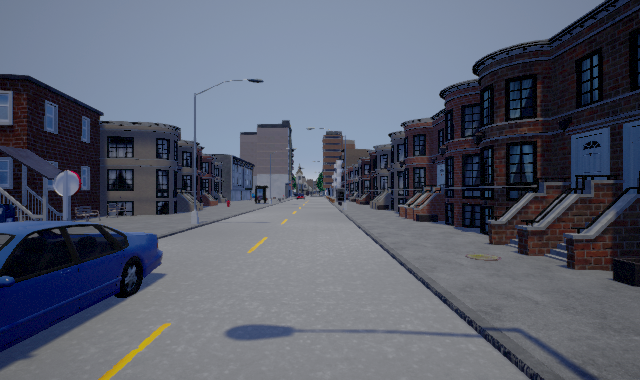traffic_sign: (54, 170, 82, 201)
vehicle: (1, 221, 163, 352)
